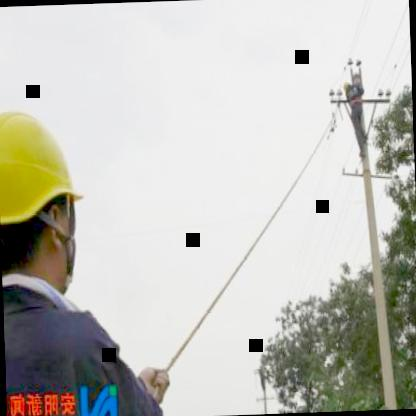helmet: (0, 78, 106, 305)
